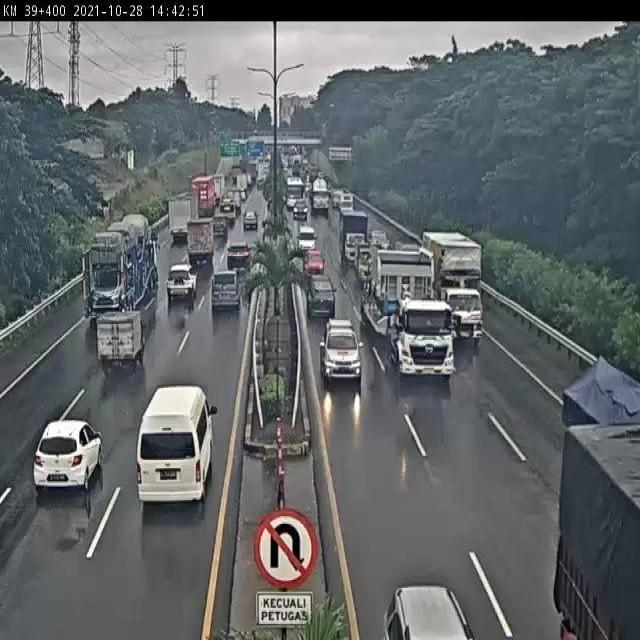big truck: (83, 215, 159, 321)
car: (31, 420, 103, 488), (320, 317, 365, 384), (305, 273, 336, 316), (165, 262, 196, 298), (212, 270, 238, 306), (225, 240, 253, 268), (304, 248, 326, 275)
small bus: (134, 385, 217, 503)
small truck: (96, 311, 145, 364)
truck-l-: (422, 226, 486, 342)
truck-m-: (336, 208, 369, 264), (186, 220, 215, 267)
truck-xl-: (364, 236, 455, 379)
